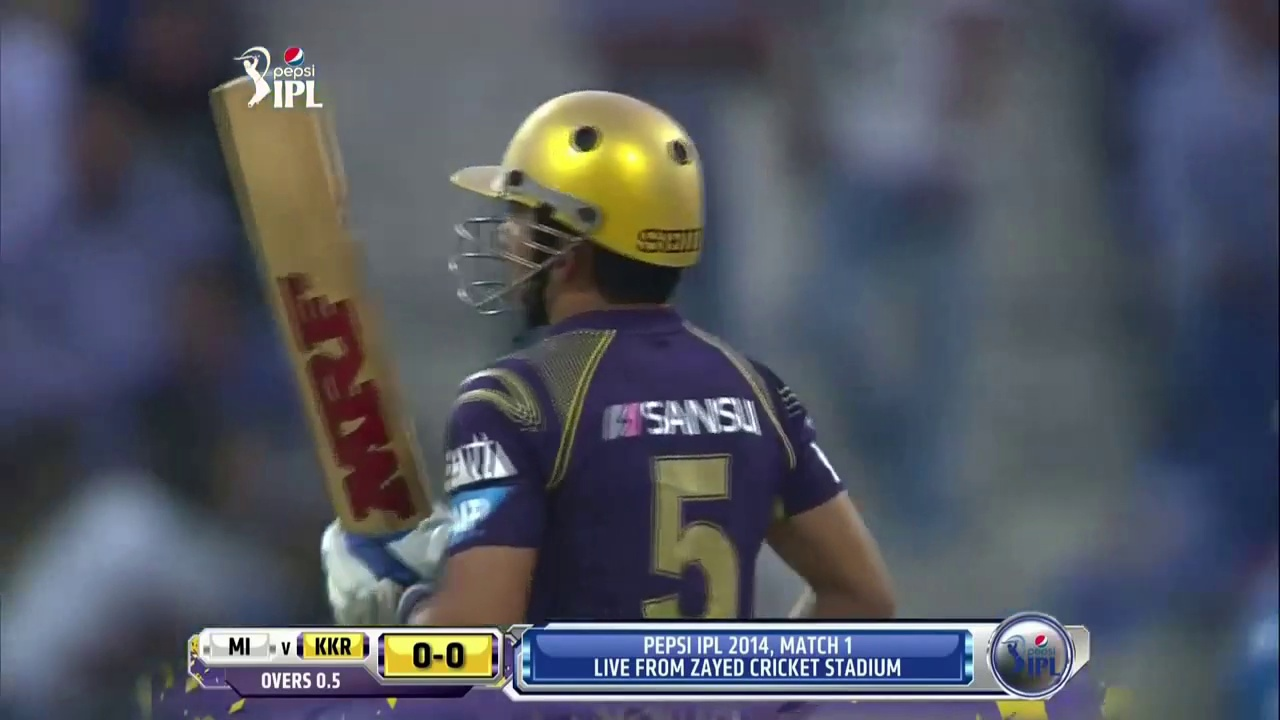bat: (214, 107, 437, 506)
